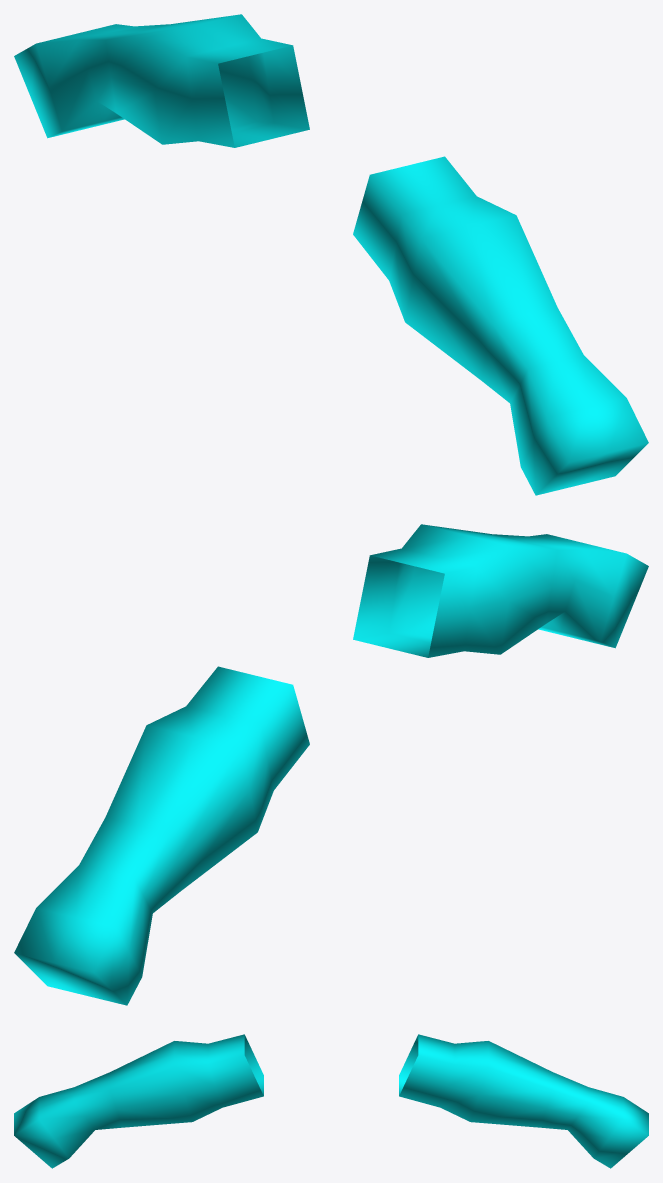
Rendered from holoarmsSeperated.fbx.
3 renders of one model, top to bottom at view 1: azimuth 30°, elevation 25°; view 2: azimuth 150°, elevation 25°; view 3: azimuth 270°, elevation 25°, orthographic. The views are drawn at different scales.
Parts seen in each view (by area): view 1: Cube.002, Cube.001; view 2: Cube.001, Cube.002; view 3: Cube.002, Cube.001.
Boxes of the visible parts, x1=… form: Cube.002: x1=353, y1=156, x2=648, y2=495; Cube.001: x1=14, y1=14, x2=309, y2=147; Cube.001: x1=14, y1=666, x2=309, y2=1005; Cube.002: x1=353, y1=524, x2=648, y2=657; Cube.002: x1=14, y1=1034, x2=263, y2=1168; Cube.001: x1=399, y1=1034, x2=648, y2=1168.
Size of the model in its own units: 65.38 by 129 by 659.
